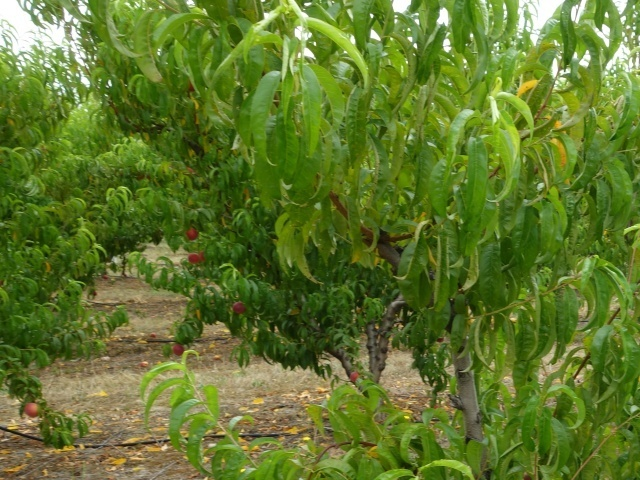peach: (21, 397, 41, 420), (168, 339, 188, 359), (229, 299, 247, 319), (181, 224, 201, 241), (185, 249, 202, 267)
